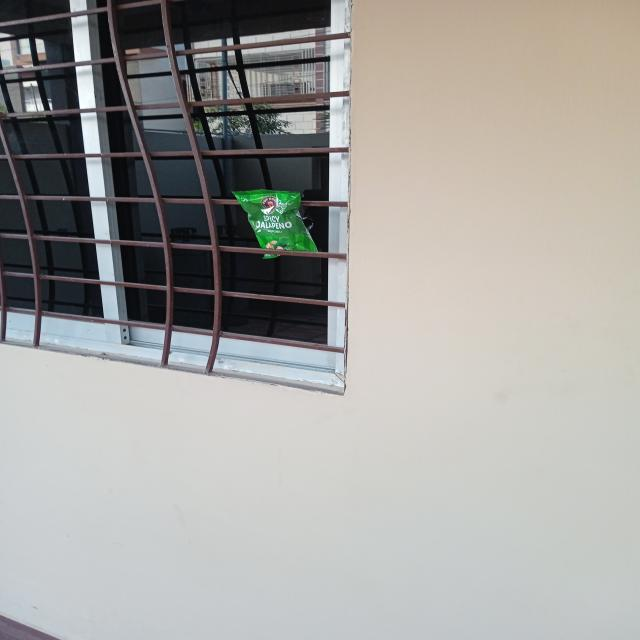Plastic: (240, 192, 320, 250)
